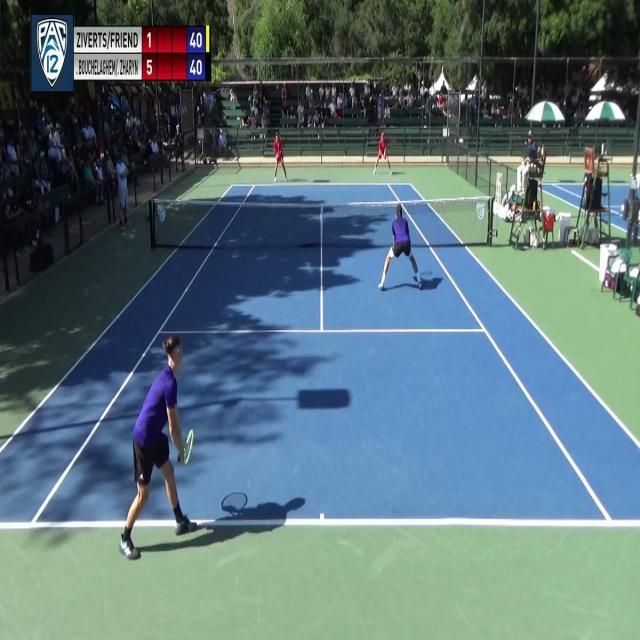court: (1, 222, 621, 586)
net: (148, 196, 500, 251)
player: (122, 330, 204, 561), (378, 198, 424, 297)
